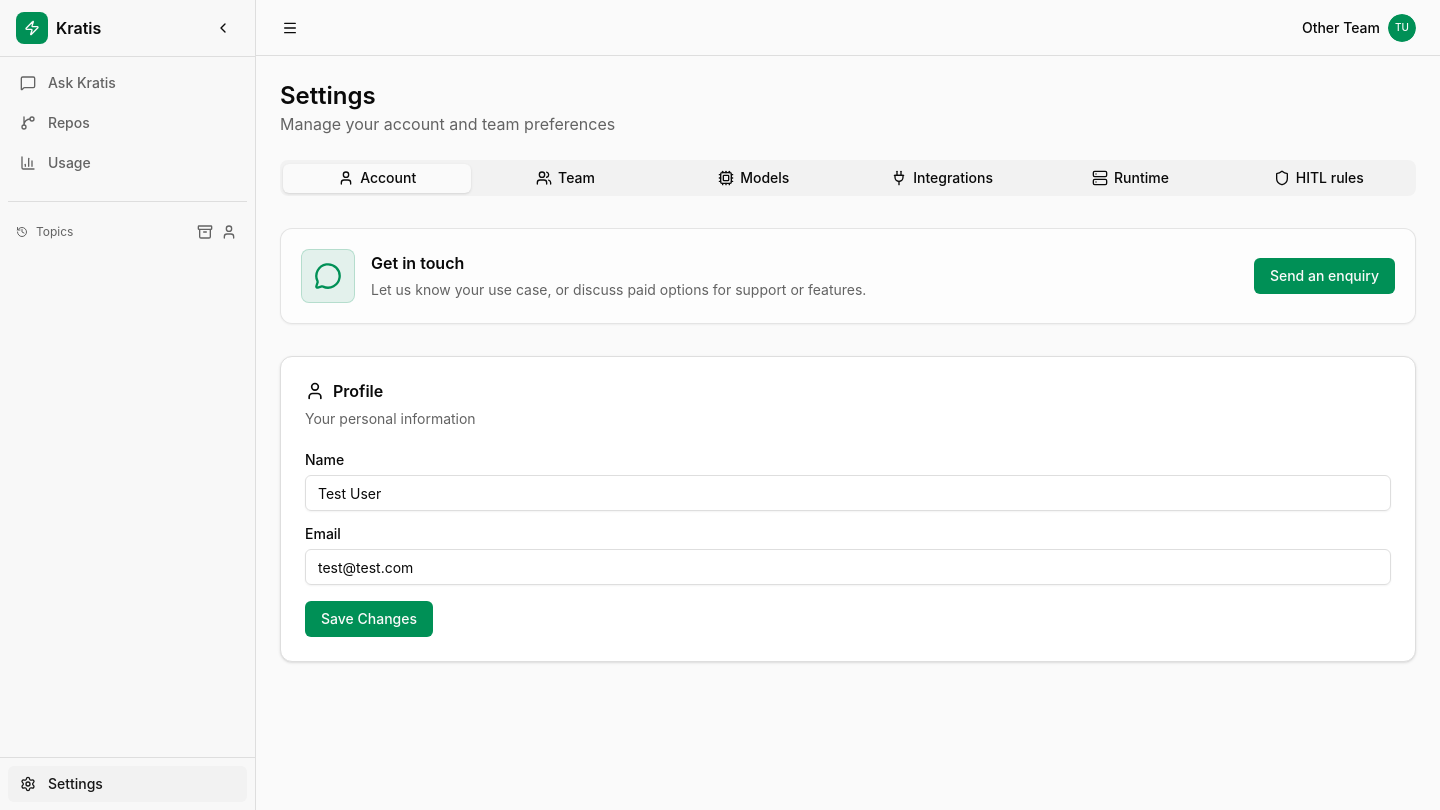
it: Login Team Flow › does not override team selection when user has already selected a team
Click the tab "Team": (565, 178) [471,164,660,192]
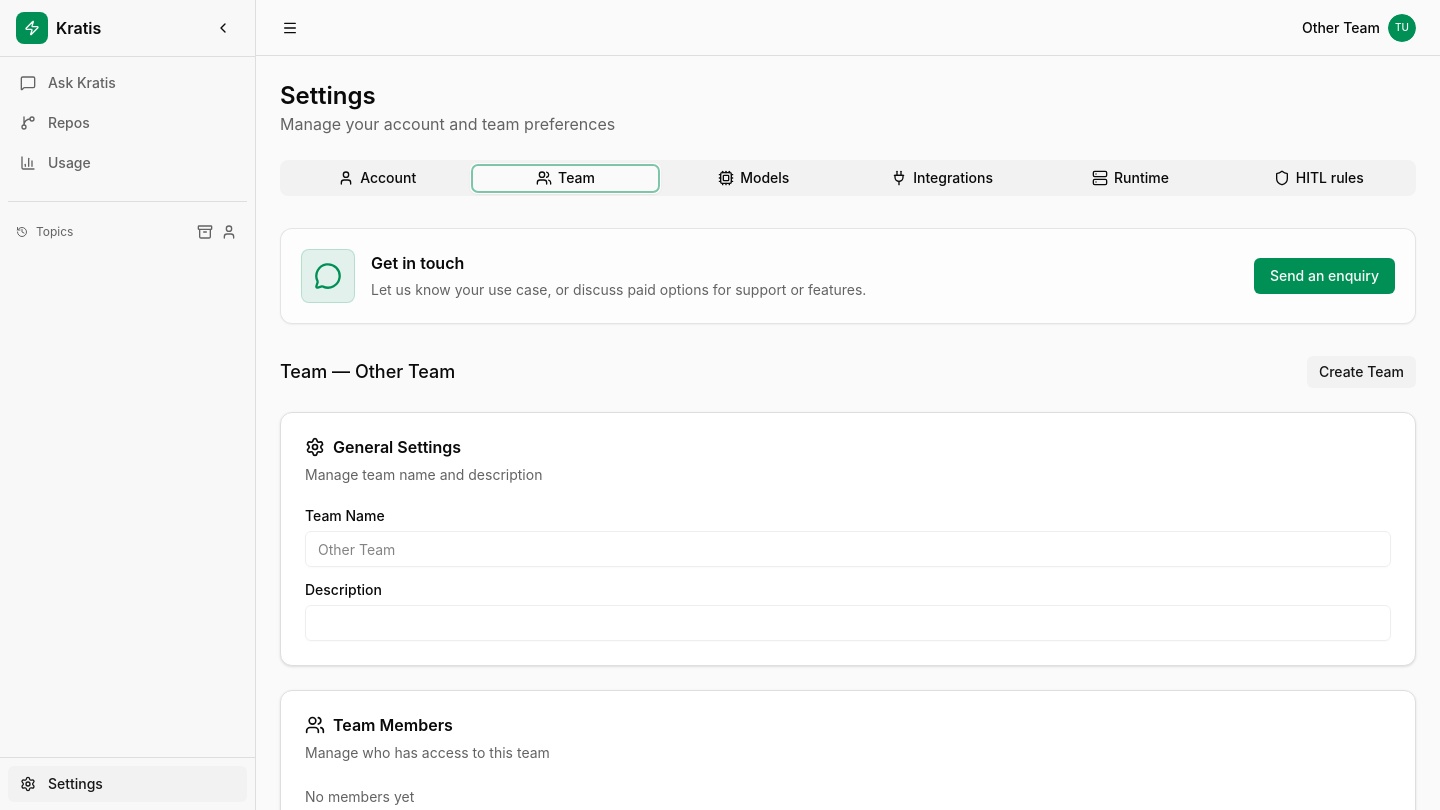
Check: the heading "Team — Other Team" is shown, box [280,358,455,386]
